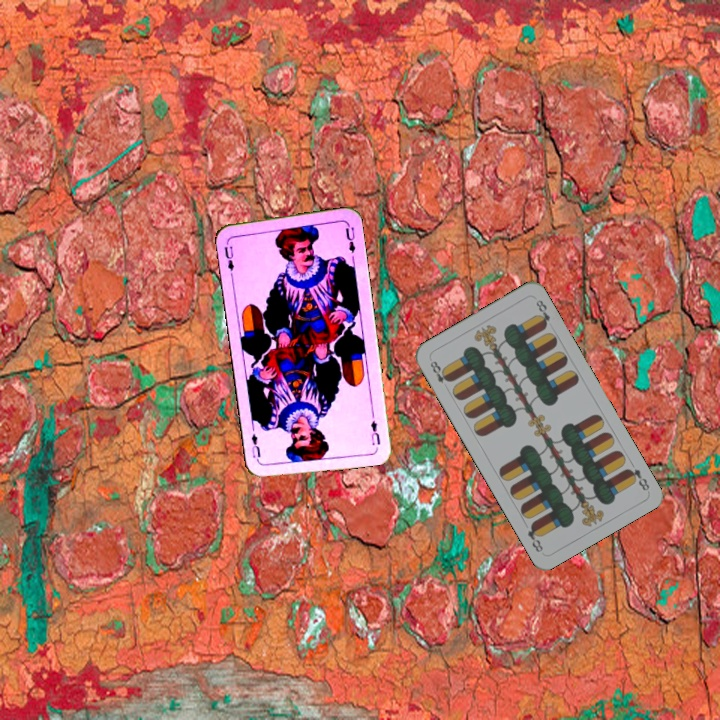E8: (622, 464, 652, 494), (426, 355, 453, 386)
EU: (220, 238, 236, 274), (367, 416, 383, 448)
